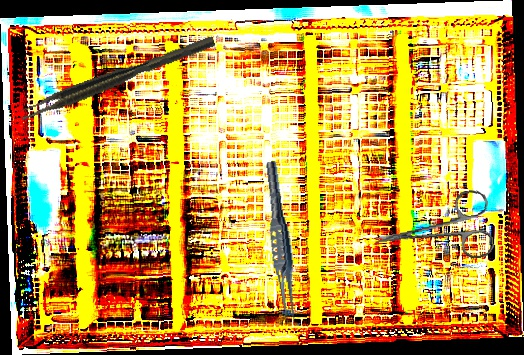Iris Scissors: (369, 188, 496, 272)
Tissue Forceps: (17, 35, 218, 123), (258, 160, 303, 325)
